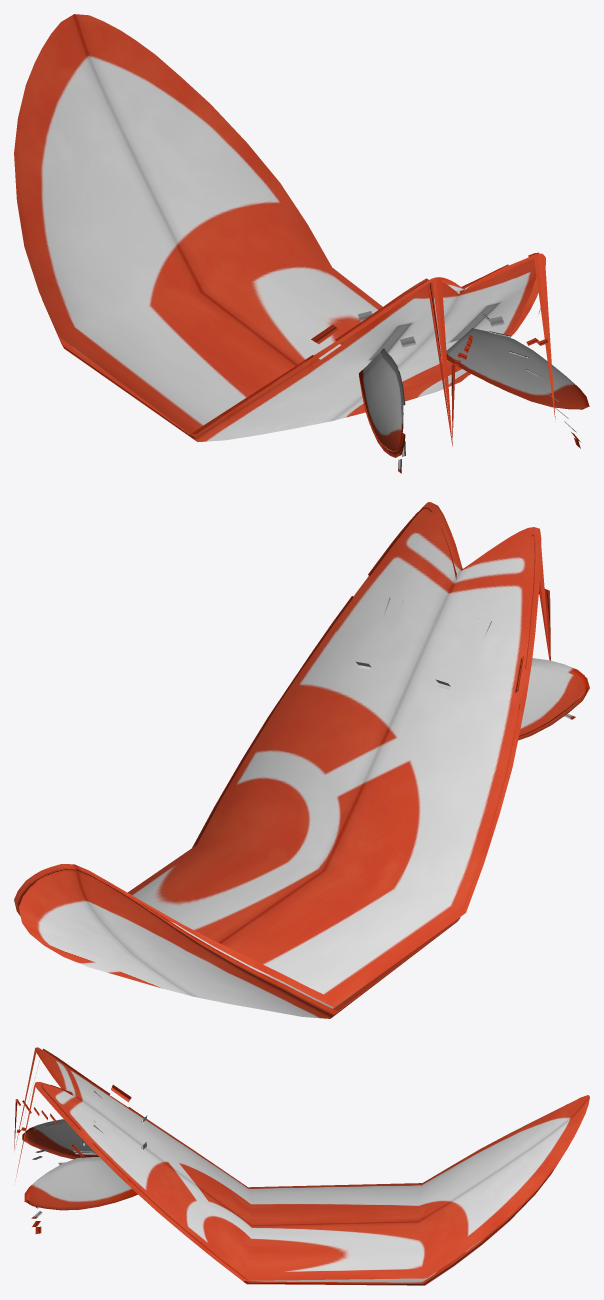
Rendered from tabla.obj.
3 views of the same model, one above another, from view 1: azimuth 30°, elevation 25°; view 2: azimuth 150°, elevation 25°; view 3: azimuth 270°, elevation 25° (orthographic). The views are drawn at different scales.
Parts seen in each view (by area): view 1: ob0607_00_boardSkin; view 2: ob0607_00_boardSkin; view 3: ob0607_00_boardSkin.
Boxes of the visible parts, x1,y1,x2,y2 form: ob0607_00_boardSkin: (14,14,589,473); ob0607_00_boardSkin: (14,502,589,1018); ob0607_00_boardSkin: (14,1047,589,1285).
Bounding box in the file's own units: 7.14 × 6.65 × 19.14.
Materials: 1 (1 with a texture image).
